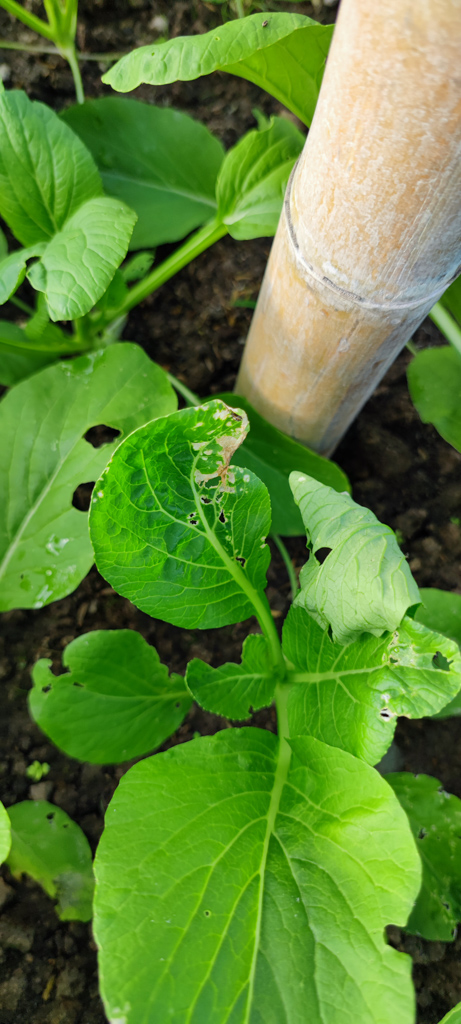Ragged Stunt Disease: (279, 461, 428, 652), (164, 395, 284, 587)
